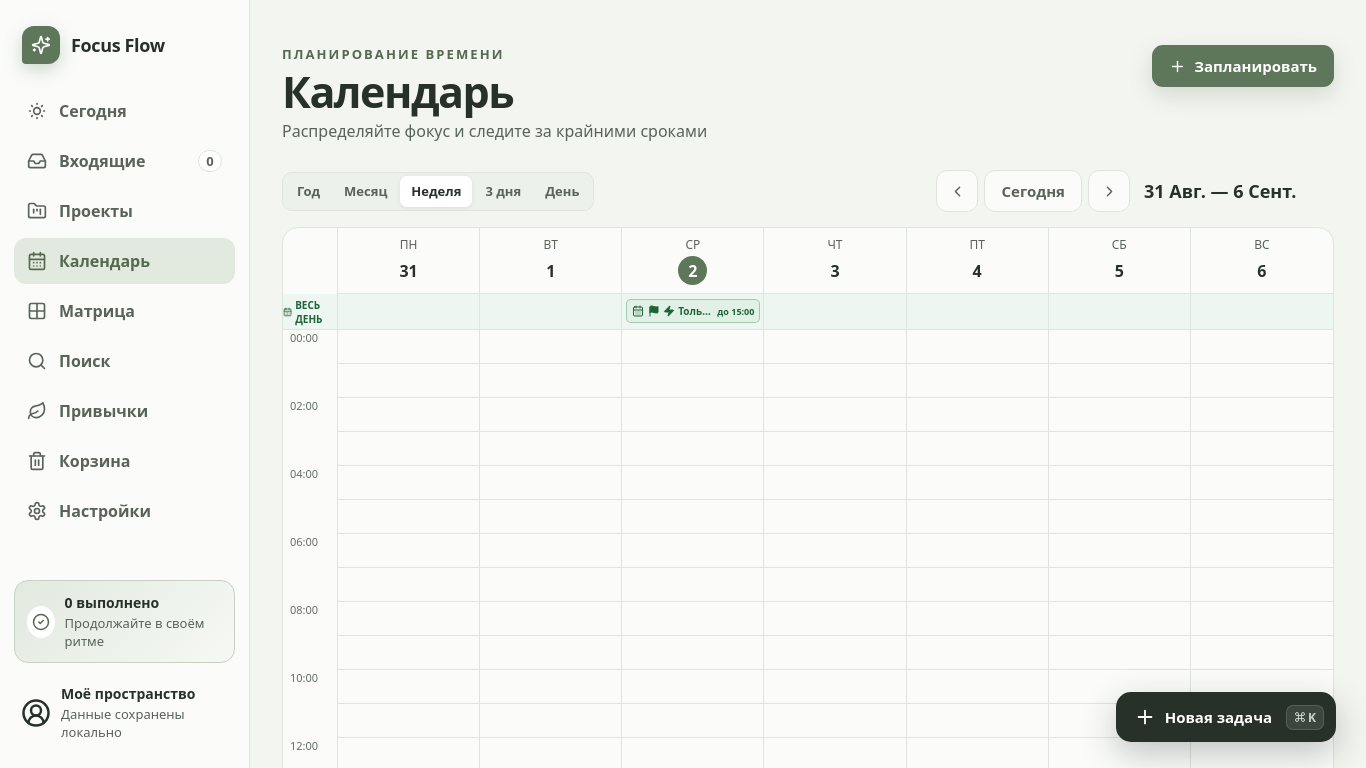
Test: calendar deadline projection › keeps a legacy deadline-only task visible in week and month views
The image size is (1366, 768).
Expected: the heading "Календарь" is shown, [282,62,513,121]
Expected: the text "Весь день" is shown, [295,298,322,326]
Click the button "Месяц" at [366, 191], box [333,176,398,206]
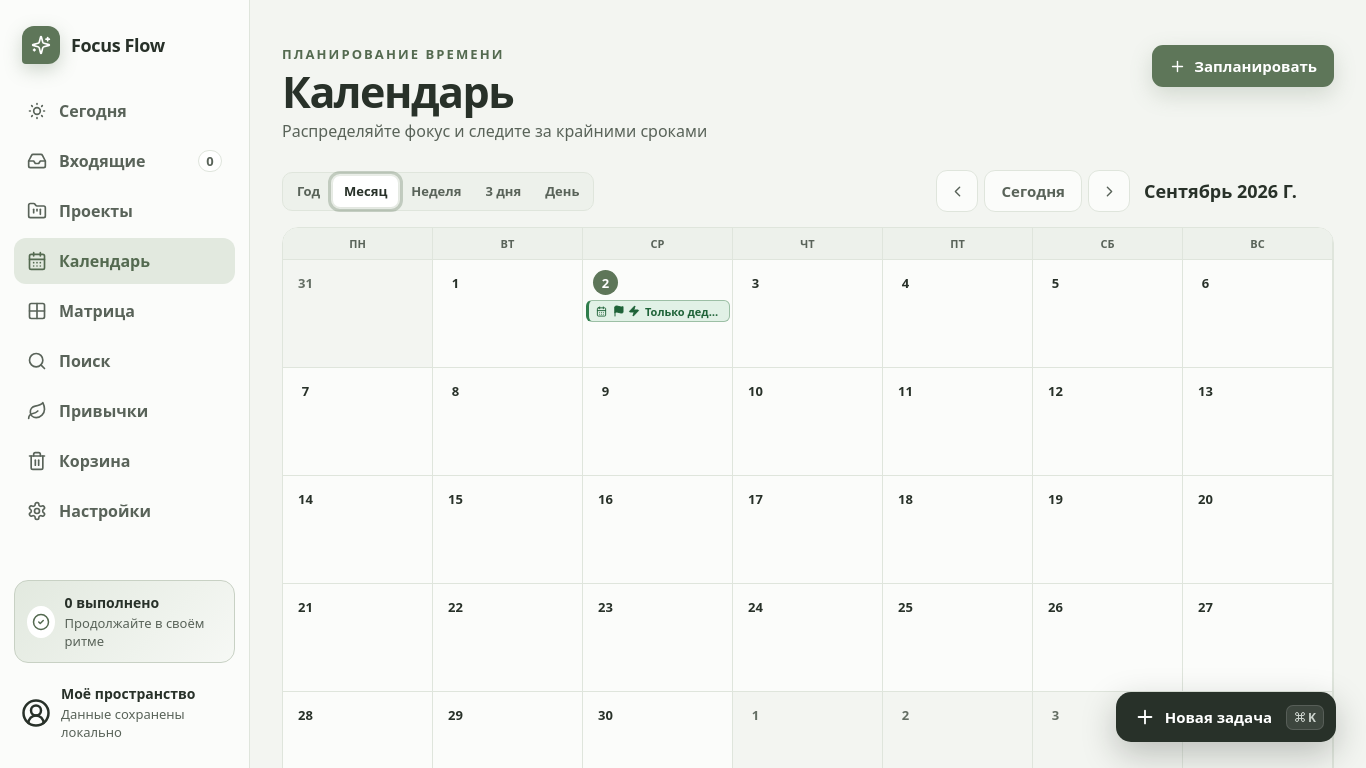
Result: the number of elements with class "month-day" is 42
Result: the button with class "month-day__deadline" reads "Только дедлайн" at [586,300,730,322]
